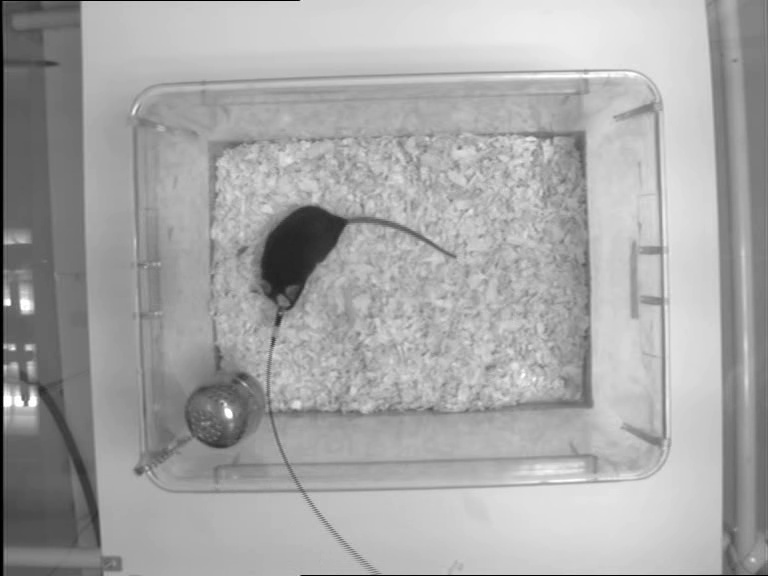mice: (256, 205, 459, 314)
